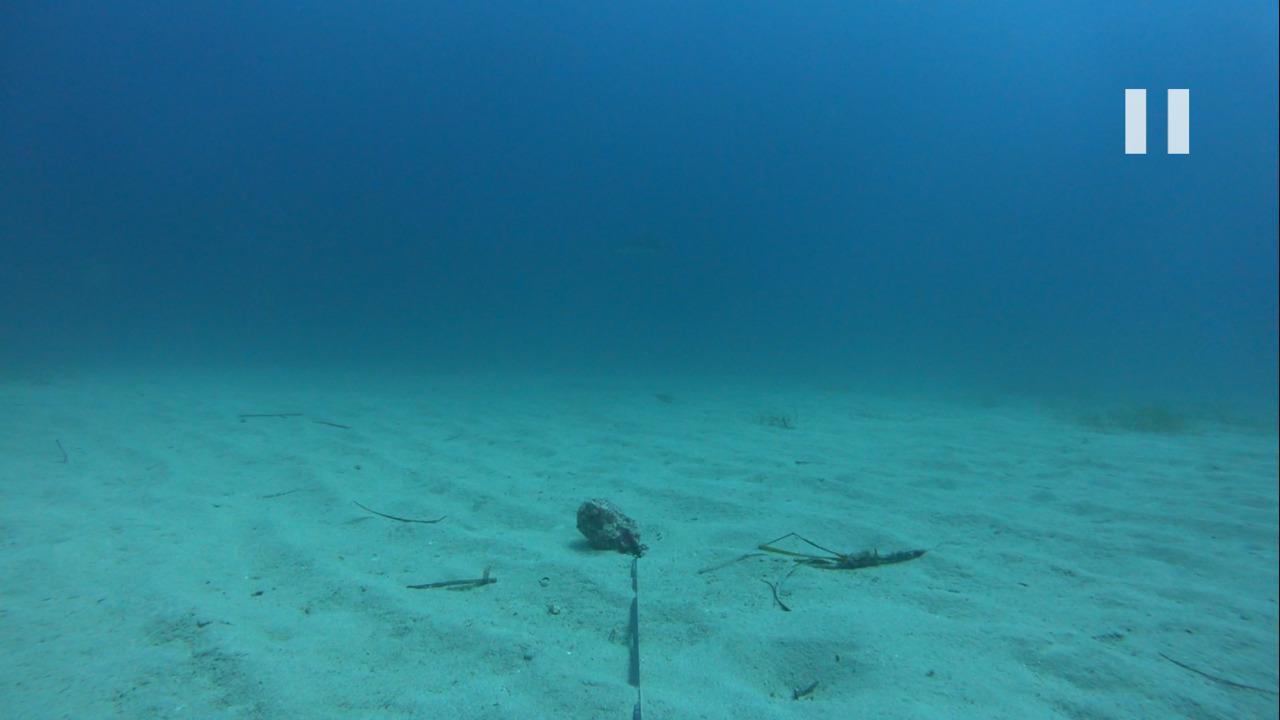myliobatis: (594, 228, 699, 270)
